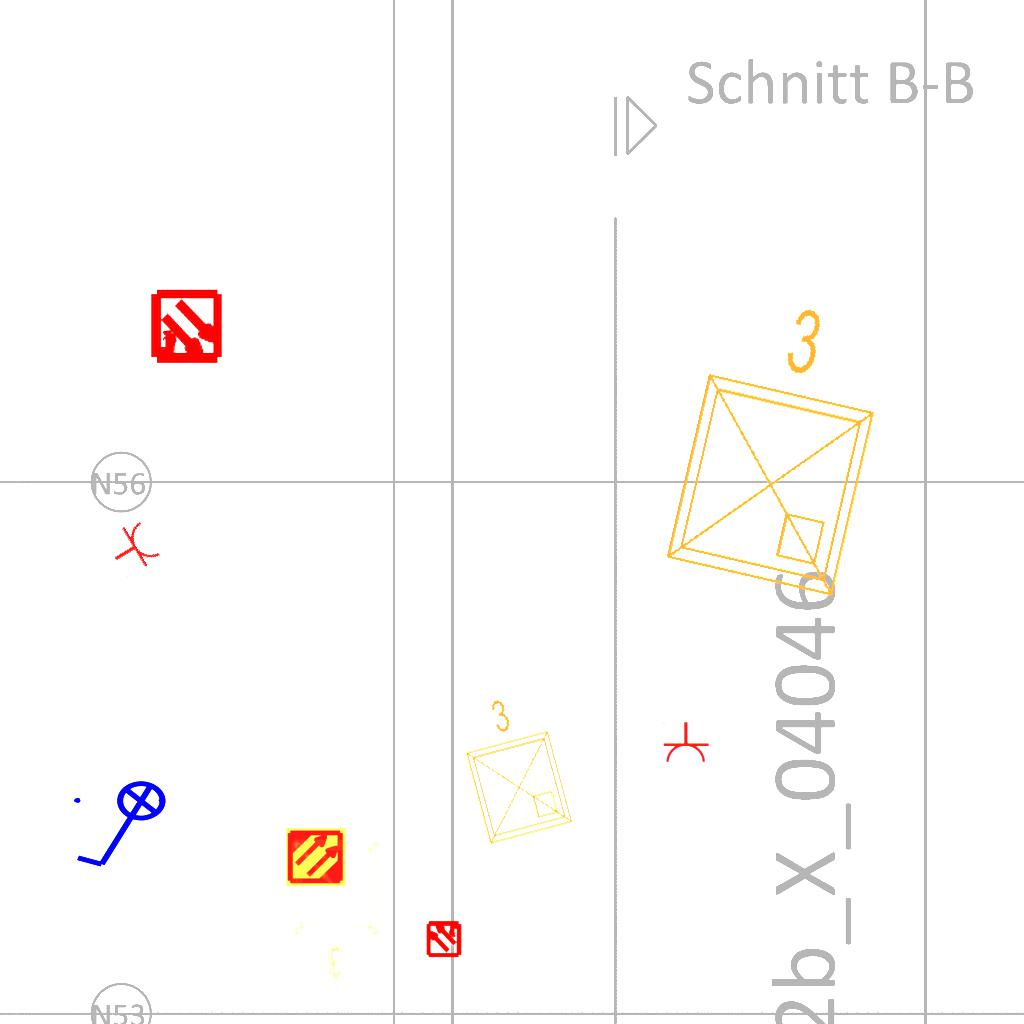ASR_Ansaugrauchmelder: (285, 826, 347, 888)
Ausschalter_beleuchtet: (68, 779, 180, 875)
Einbaudownlights_LED_Konferenzraeume: (640, 274, 912, 614), (442, 682, 582, 854), (286, 834, 390, 984)
OT_Multisensormelder_(Kombination_RMO_WMD): (130, 272, 243, 385), (416, 910, 472, 966)
Schukosteckdose_einfach: (102, 516, 165, 582), (660, 721, 710, 764)
